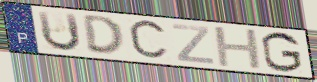C: (126, 18, 171, 62)
D: (80, 15, 127, 58)
G: (259, 31, 305, 74)
H: (212, 26, 266, 71)
U: (35, 9, 83, 53)
Z: (170, 23, 216, 66)
